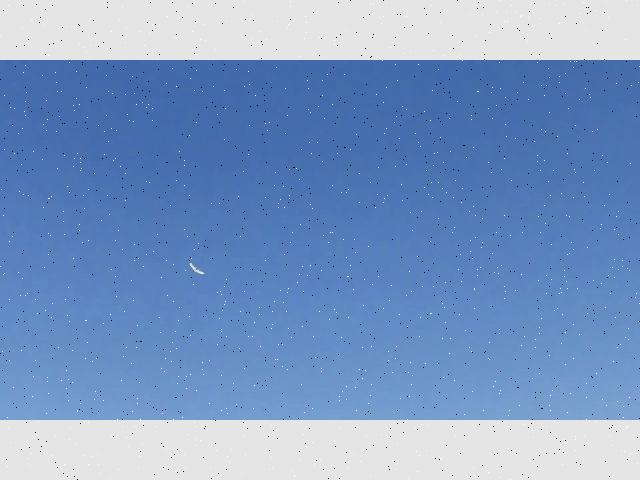Anti-Drone: (174, 253, 214, 285)
